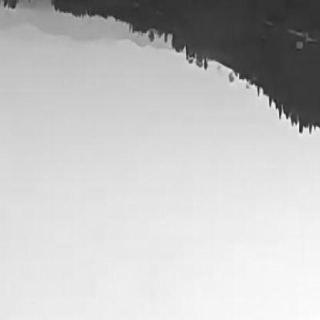other: (225, 67, 317, 213)
